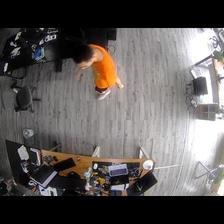normal: (73, 43, 125, 100)
